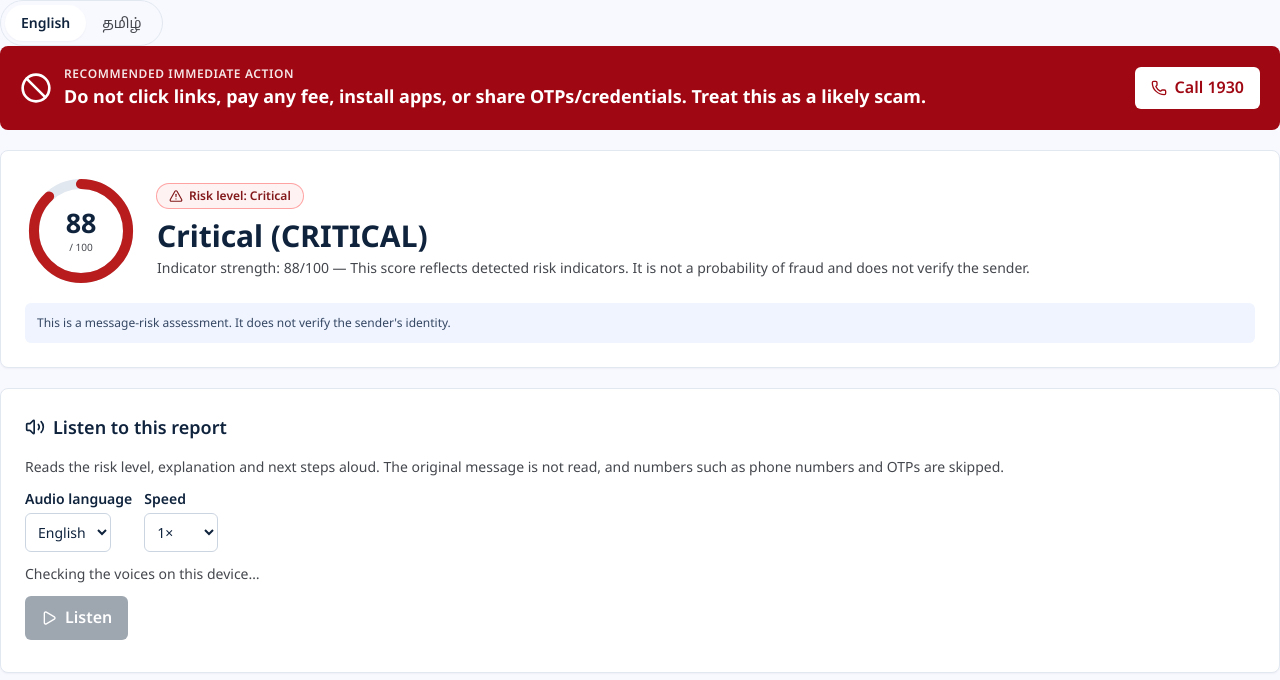
it: ProviderStatus and missing data › uses Tamil limitations and verdict scope from the backend
Click the button "தமிழ்": coordinates (122, 23) [86,5,158,41]
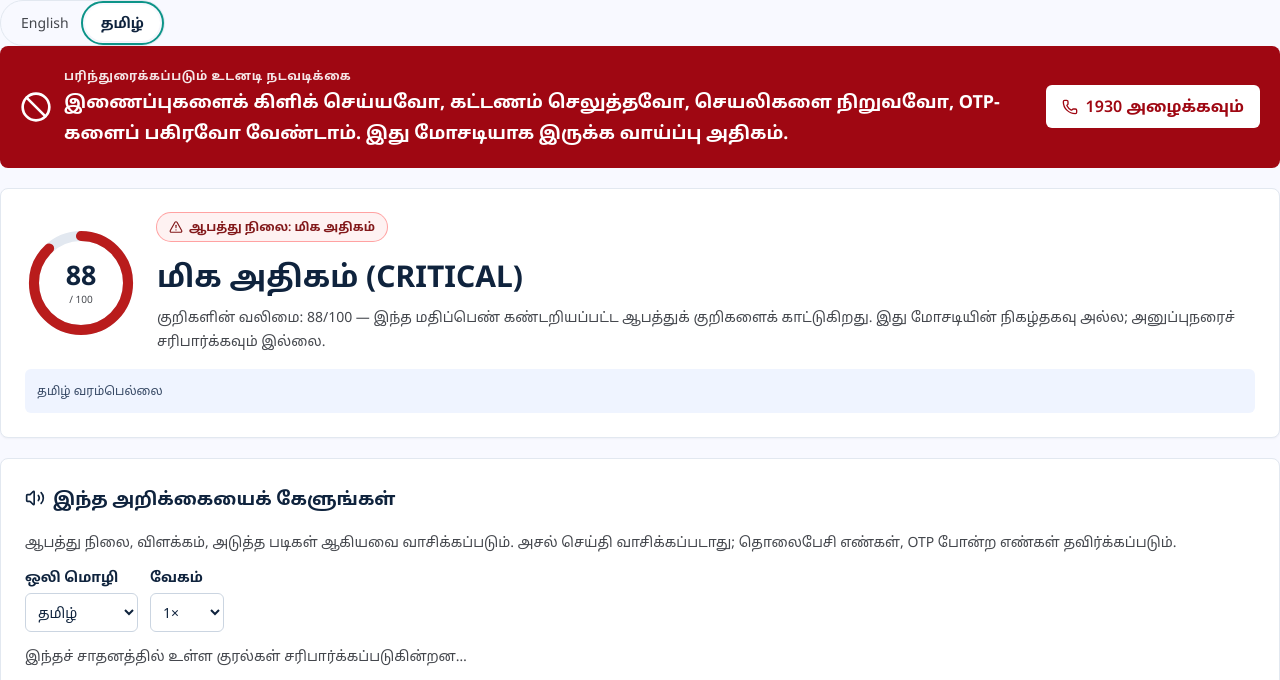
Expected: the text "தமிழ் வரம்பெல்லை" is shown, [25,368,1255,413]
